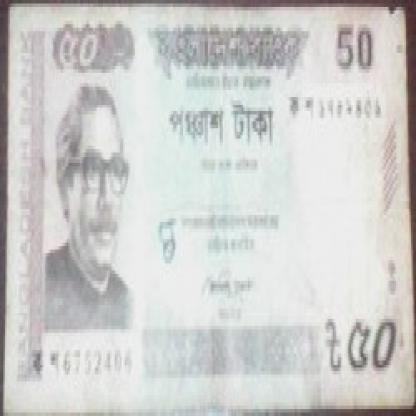Fifty taka: (47, 17, 107, 90), (342, 312, 408, 378)
